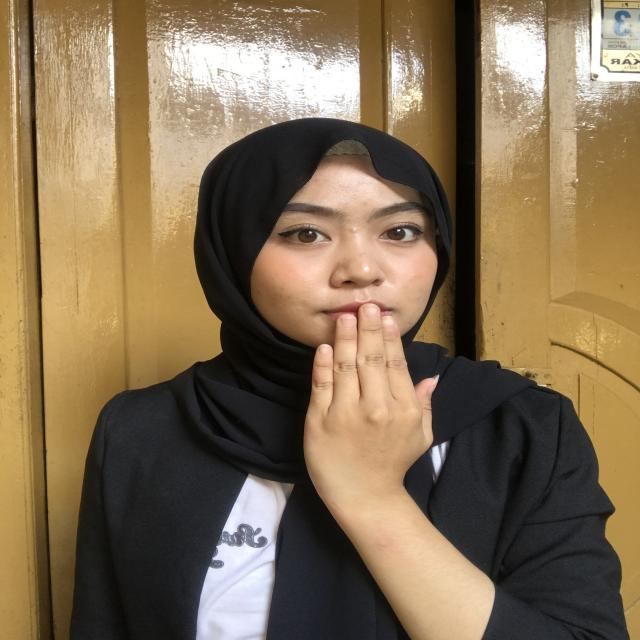ganteng: (301, 298, 455, 504)
